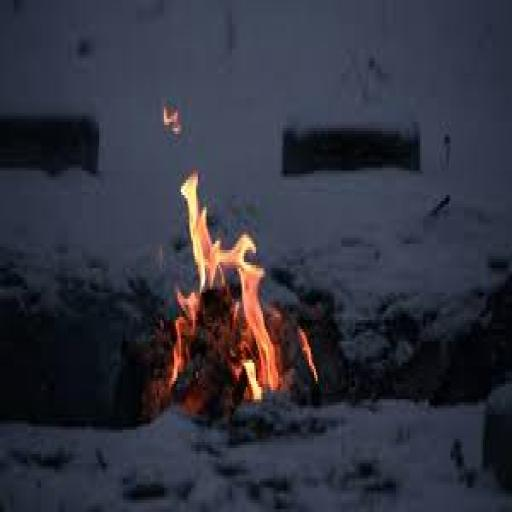smoke: (159, 171, 316, 414)
